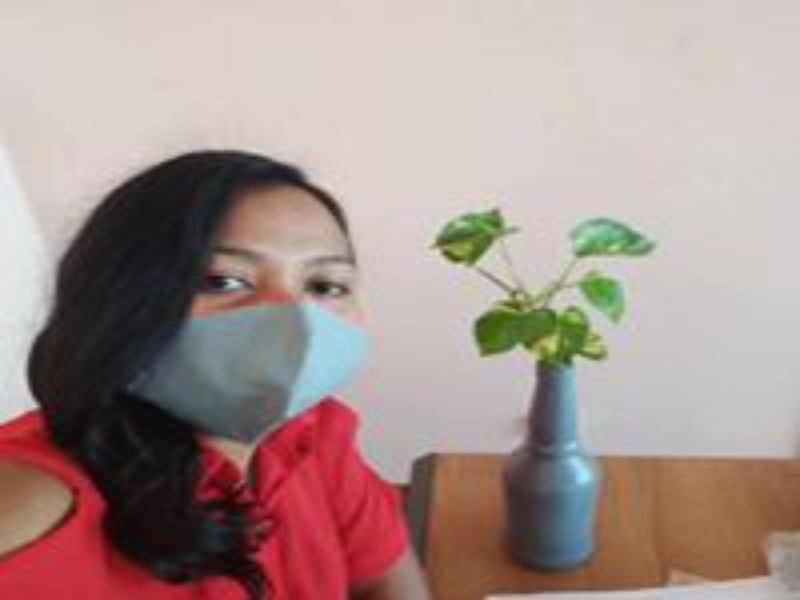ManaoArotava: (118, 163, 387, 454)
